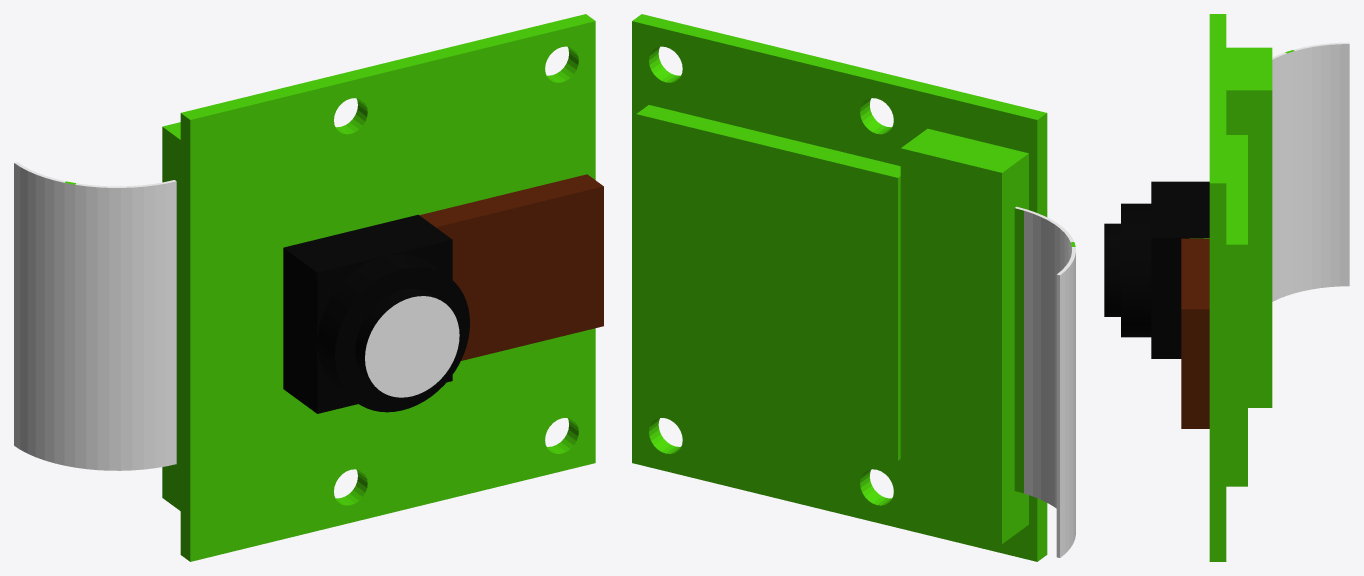
The model's file is raspicam.dae.
The picture shows the model from 3 angles, left to right: view 1: azimuth 30°, elevation 25°; view 2: azimuth 150°, elevation 25°; view 3: azimuth 270°, elevation 25°; orthographic projection. The views are drawn at different scales.
Visible parts, largest first — view 1: node0; view 2: node0; view 3: node0.
Part boxes in pixels (bbox=[...]): node0: bbox=[14, 14, 603, 561]; node0: bbox=[632, 14, 1075, 561]; node0: bbox=[1104, 14, 1349, 561].
Size of the model in its own units: 0.0365 by 0.0181 by 0.0308.
